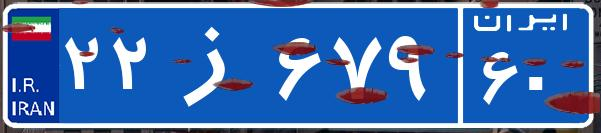0: (525, 38, 570, 115)
2: (57, 26, 110, 107), (110, 28, 158, 105)
6: (273, 28, 330, 110), (475, 38, 525, 113)
7: (330, 28, 385, 110)
9: (385, 28, 445, 110)
ز: (158, 15, 273, 115)
